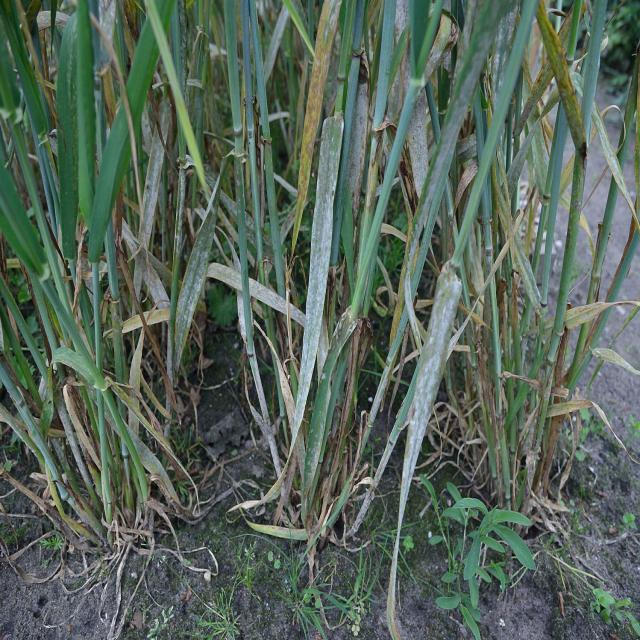wheat-powdery-mildew: (397, 270, 464, 525), (294, 120, 344, 450)
